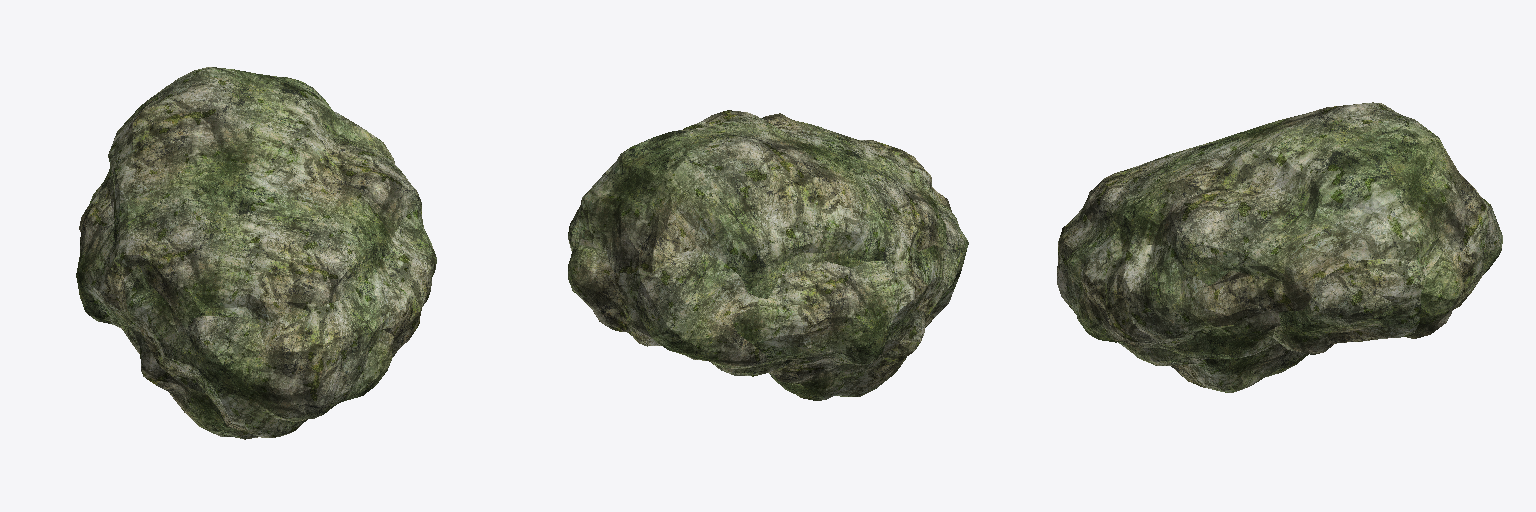
3 views of the same model, side by side, from view 1: azimuth 30°, elevation 25°; view 2: azimuth 150°, elevation 25°; view 3: azimuth 270°, elevation 25° (orthographic).
Visible parts, largest first — view 1: rock01_Group40978_Group40978Shape.001; view 2: rock01_Group40978_Group40978Shape.001; view 3: rock01_Group40978_Group40978Shape.001.
Boxes of the visible parts, <box> form: rock01_Group40978_Group40978Shape.001: <box>76,67,436,439</box>; rock01_Group40978_Group40978Shape.001: <box>568,110,968,400</box>; rock01_Group40978_Group40978Shape.001: <box>1057,102,1502,392</box>.
Bounding box in the file's own units: 11.78 × 10.55 × 15.07.
Materials: 1 (1 with a texture image).